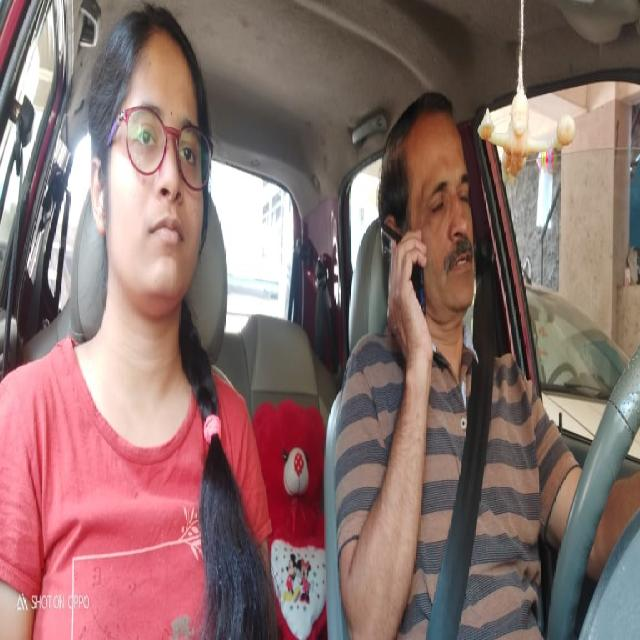mobile: (383, 213, 430, 344)
person: (84, 12, 223, 329), (377, 91, 485, 376)
